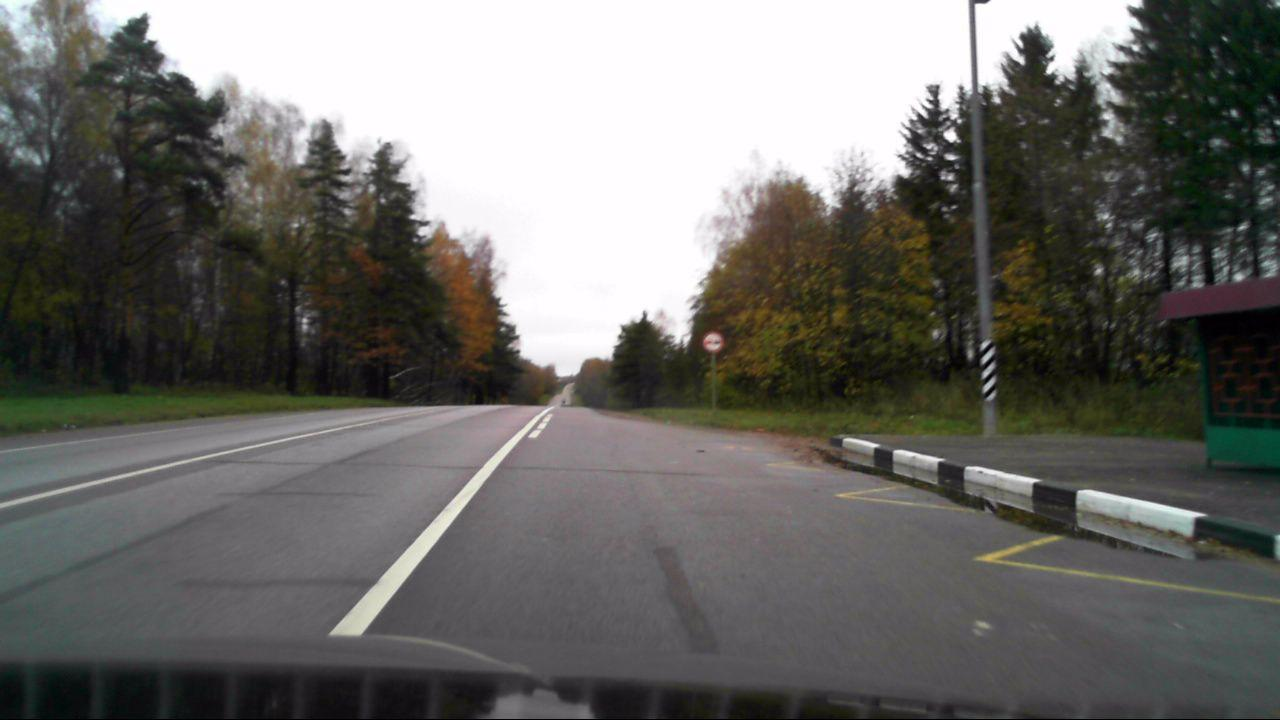3_20: (703, 332, 722, 351)
